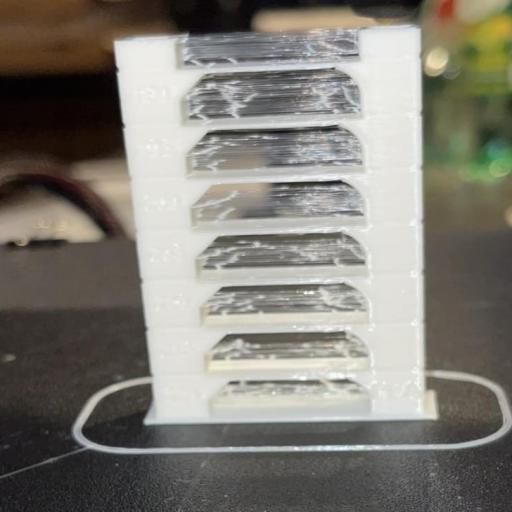stringing: (184, 64, 364, 123), (184, 123, 371, 178), (191, 175, 372, 225), (198, 334, 380, 378), (195, 232, 373, 274), (172, 28, 358, 68), (194, 287, 374, 323)
